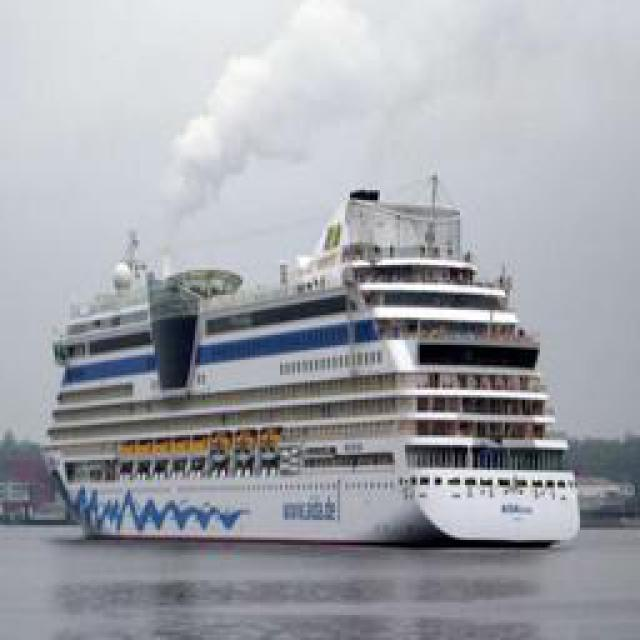Ship: (33, 174, 578, 549)
